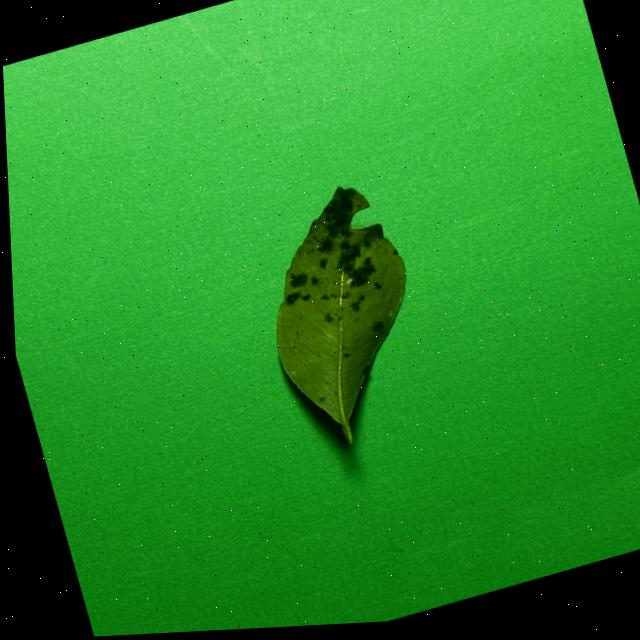sooty_mold: (277, 187, 405, 443)
